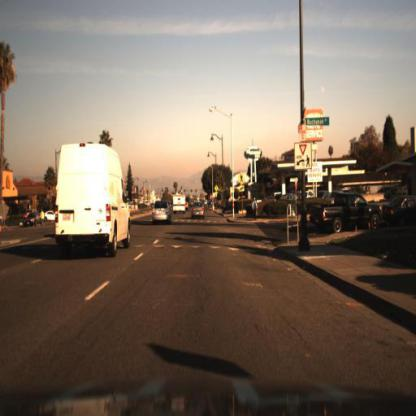car: (51, 139, 134, 267), (307, 187, 382, 234), (311, 187, 384, 234), (152, 200, 176, 229), (190, 198, 209, 225), (171, 191, 188, 215), (21, 210, 39, 228), (279, 188, 297, 206), (23, 211, 41, 227), (188, 193, 200, 211)
pedestrian: (252, 197, 260, 222), (41, 209, 47, 230)
truck: (55, 132, 136, 255), (171, 190, 186, 215)
